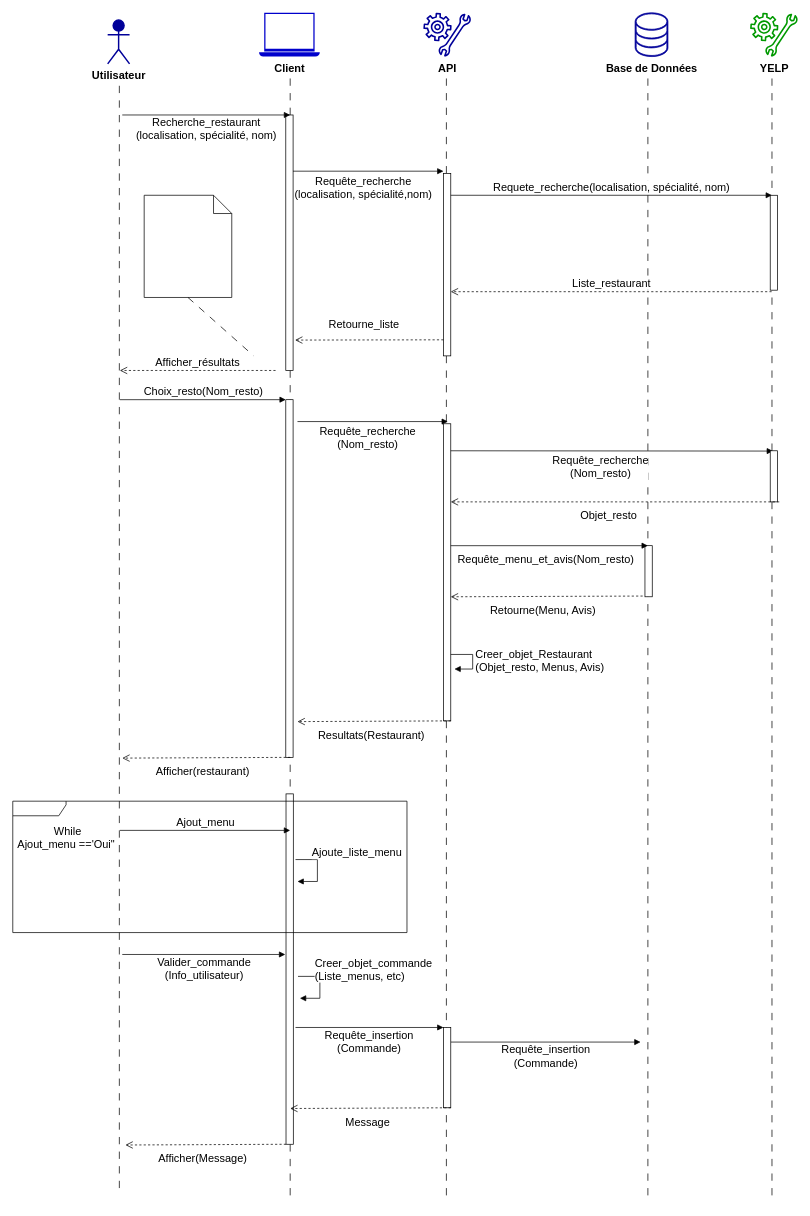
Image size: 810x1216. Some labels were removed from this diagram. The shapes that lost their labels are listed below. From the top down, each one's box as (x1, y1, x2, y2) in pixels, then its label:
(143, 195, 232, 297): L'utilisateur reprend la recherche si la liste renvoyée est vide
(12, 800, 407, 933): Loop
